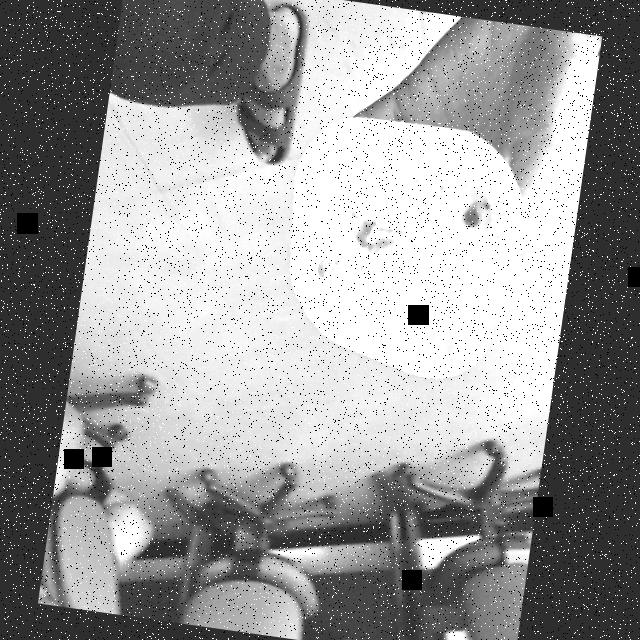cardboard_bowl: (264, 106, 534, 389)
